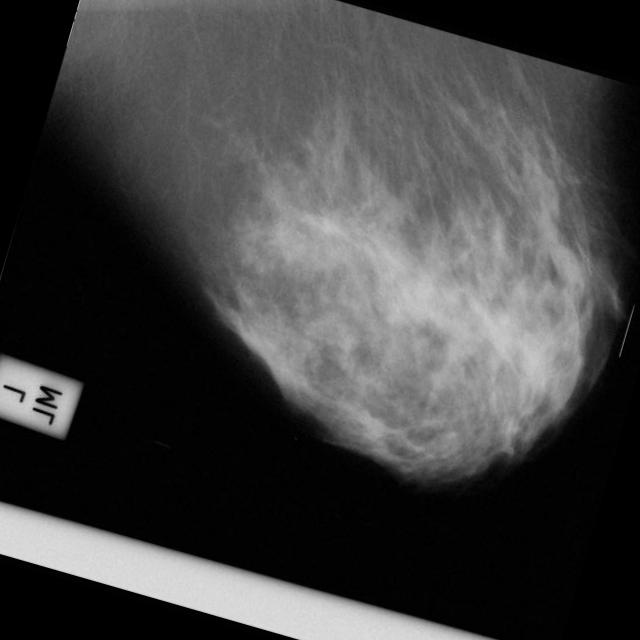SPIC: (291, 182, 366, 258)
